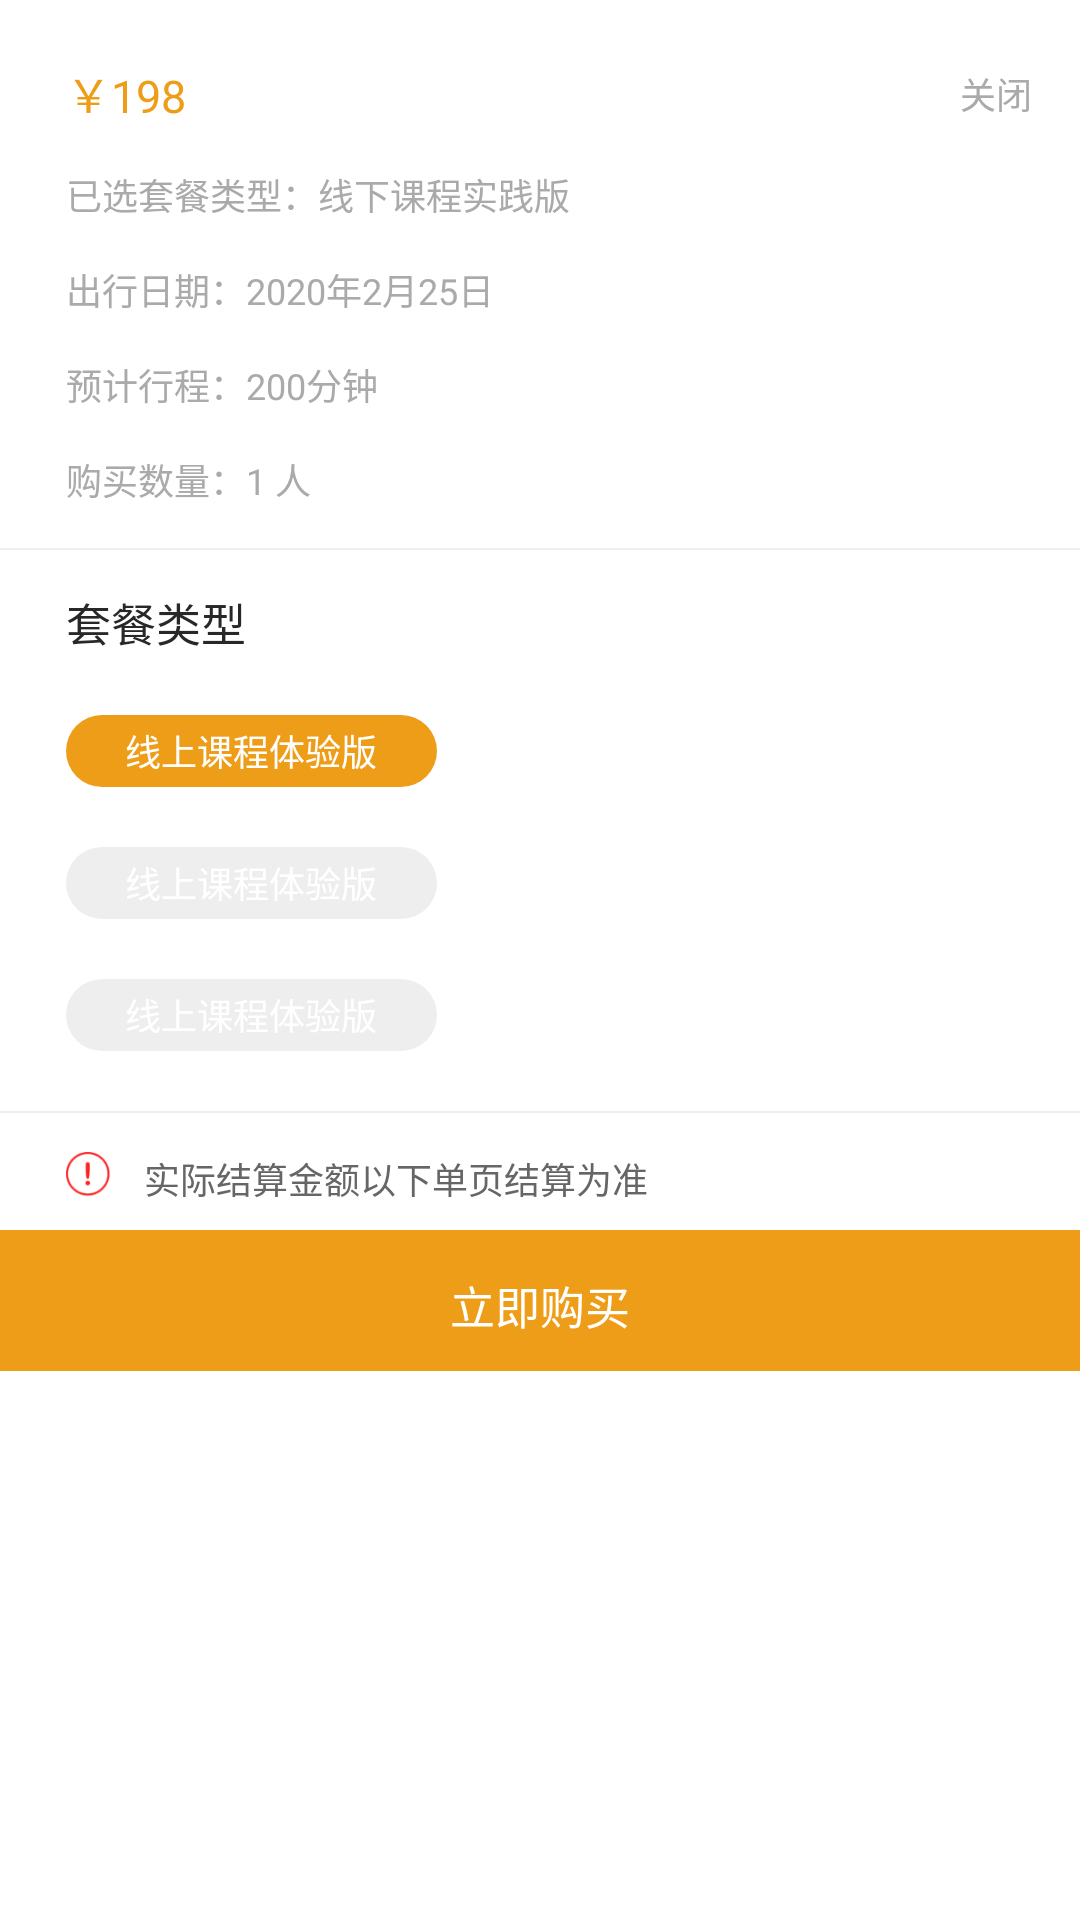

Named icons in this screenshot (1080px×1920px) and their bounding boxes, (x1, y1, x2, y2):
hint: (66, 1152, 110, 1196)
